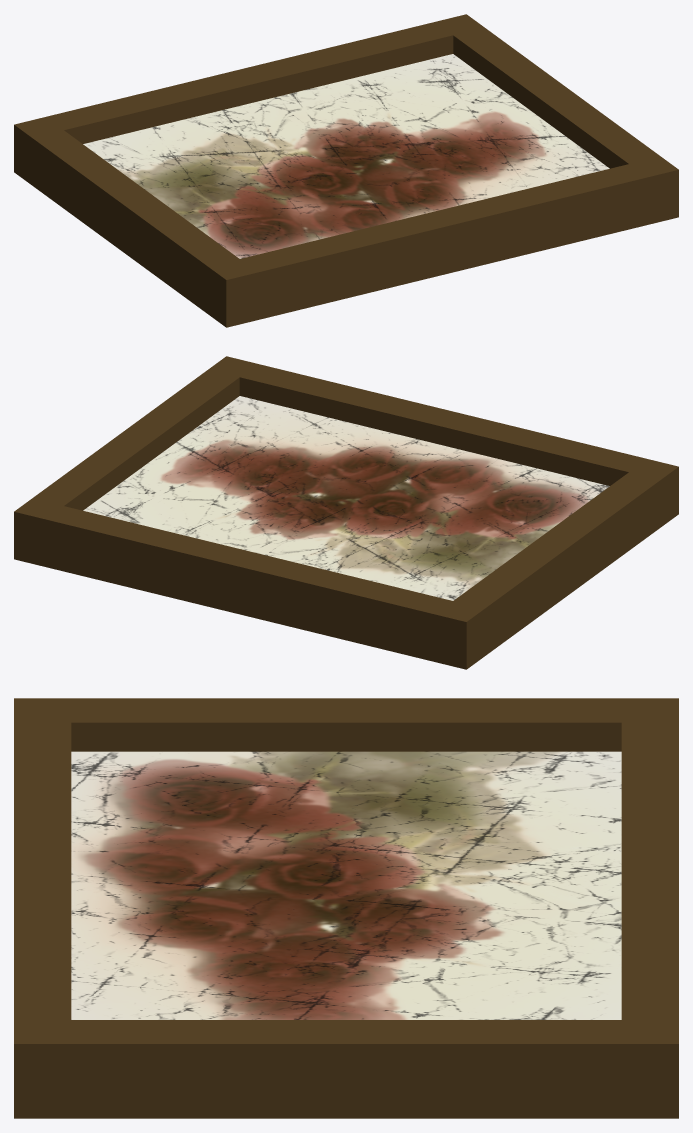
File: Photo Love.fbx
3 views of the same model, one above another, from view 1: azimuth 30°, elevation 25°; view 2: azimuth 150°, elevation 25°; view 3: azimuth 270°, elevation 25° (orthographic). The views are drawn at different scales.
Visible parts, largest first — view 1: pCube1; view 2: pCube1; view 3: pCube1.
Boxes of the visible parts, x1,y1,x2,y2 form: pCube1: [14, 14, 678, 327]; pCube1: [14, 356, 678, 669]; pCube1: [14, 698, 678, 1118].
Size of the model in its own units: 4.29 by 0.4318 by 3.49.
Materials: 2 (1 with a texture image).
